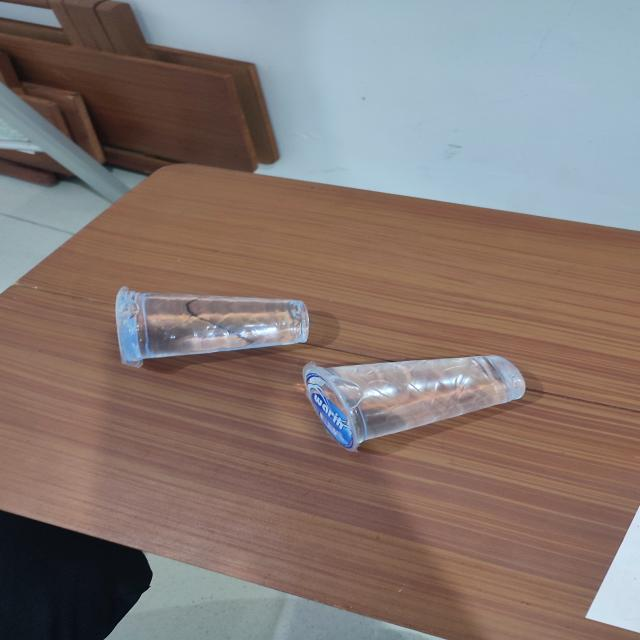air gelas: (293, 356, 543, 455), (109, 285, 314, 368)
